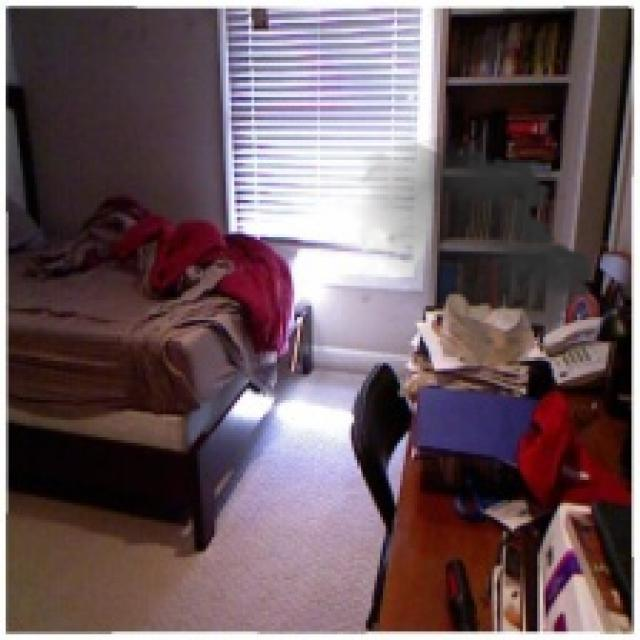Smoke: (346, 137, 603, 380)
